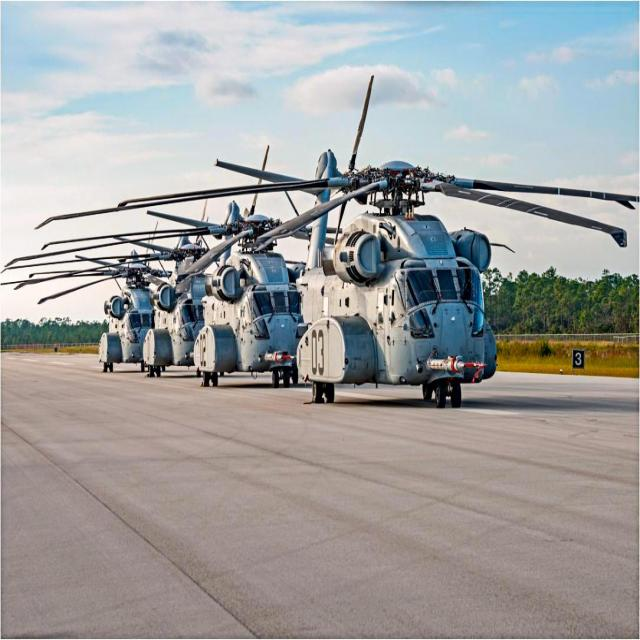MIL_HELO: (108, 150, 635, 405), (96, 181, 310, 397), (132, 277, 215, 382)
